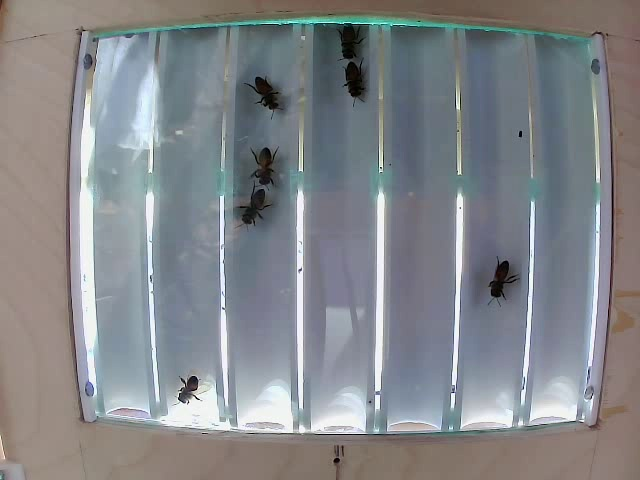bee: (479, 252, 522, 308), (248, 80, 291, 131), (335, 22, 371, 72), (228, 184, 270, 225), (165, 376, 207, 408), (247, 149, 279, 189), (338, 64, 366, 105)
